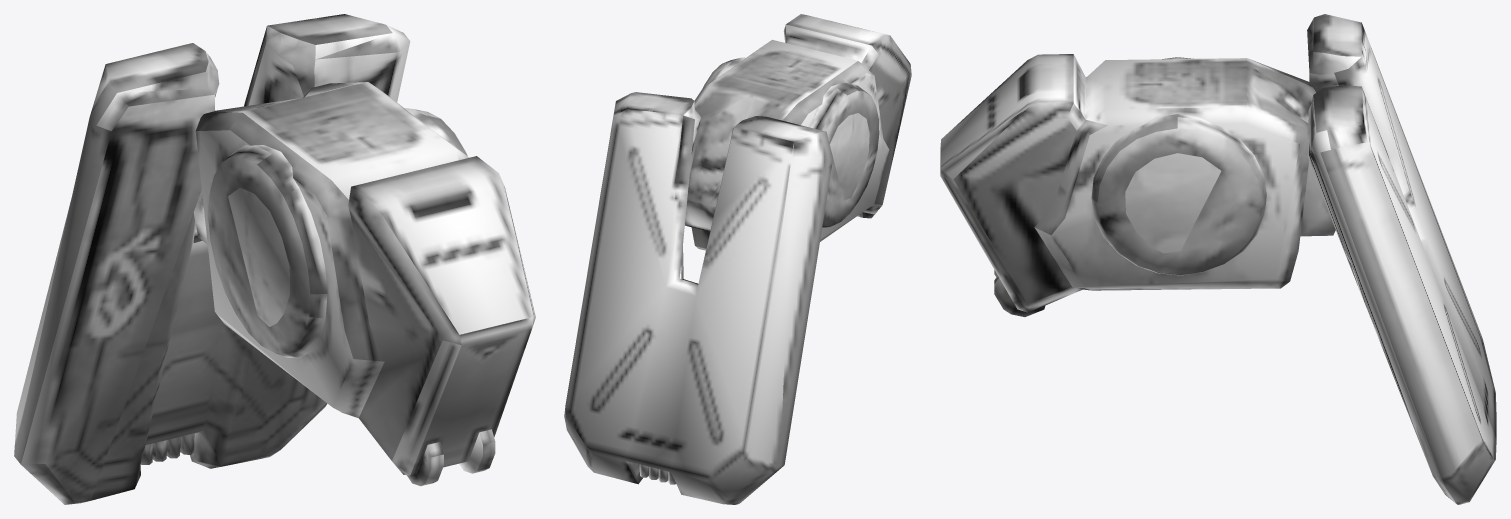
Rendered from pelvis.glb.
The picture shows the model from 3 angles, left to right: view 1: azimuth 30°, elevation 25°; view 2: azimuth 150°, elevation 25°; view 3: azimuth 270°, elevation 25°; orthographic projection. The views are drawn at different scales.
Visible parts, largest first — view 1: pelvis; view 2: pelvis; view 3: pelvis.
Part boxes in pixels (<box>): pelvis: <box>14,14,535,504</box>; pelvis: <box>564,14,911,504</box>; pelvis: <box>940,14,1496,504</box>.
Size of the model in its own units: 1.91 by 2.87 by 3.65.
Materials: 3 (3 with a texture image).
